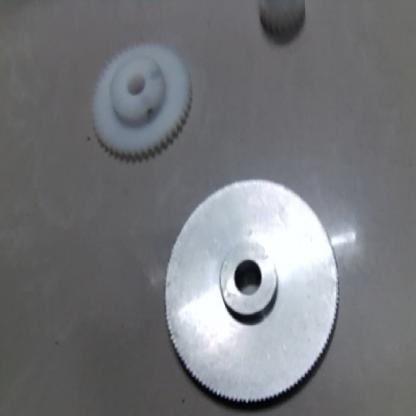FOD: (162, 178, 342, 413), (83, 34, 201, 178), (251, 0, 324, 50)
